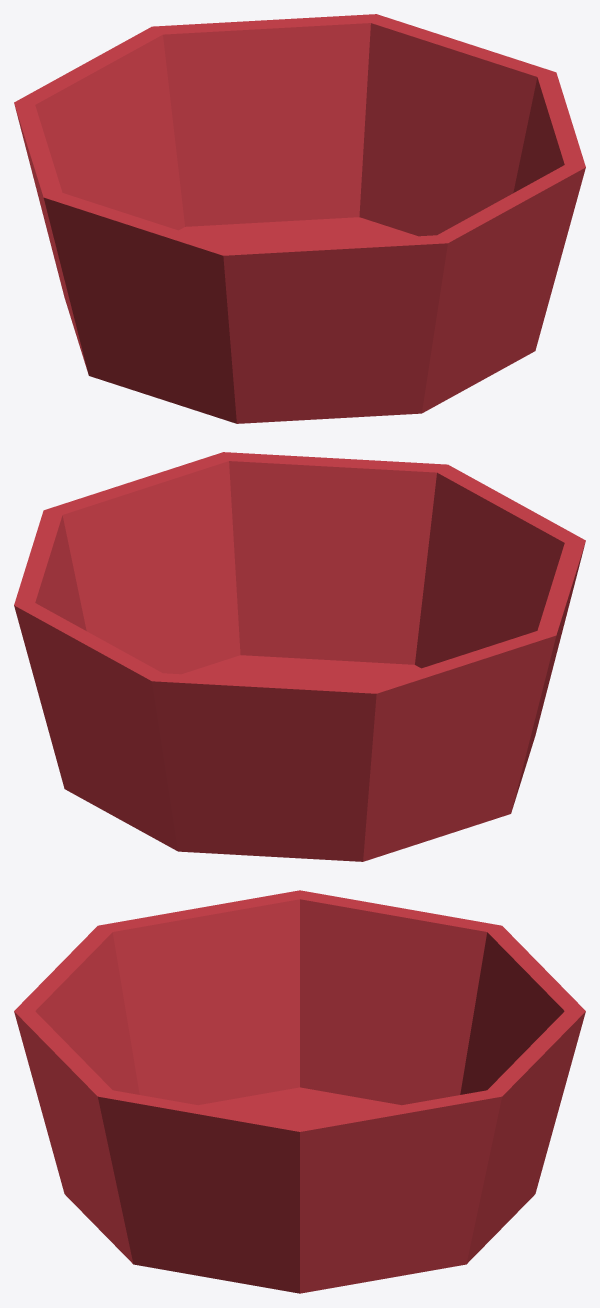
Rendered from ENVI_LV2-3_Ember 1.fbx.
3 renders of one model, top to bottom at view 1: azimuth 30°, elevation 25°; view 2: azimuth 150°, elevation 25°; view 3: azimuth 270°, elevation 25°, orthographic. The views are drawn at different scales.
Parts seen in each view (by area): view 1: Ember; view 2: Ember; view 3: Ember.
Part boxes in pixels (x1,y1,x2,y2): Ember: [14, 14, 585, 423]; Ember: [14, 452, 585, 861]; Ember: [14, 890, 585, 1293].
Bounding box in the file's own units: 75.42 × 26.63 × 75.42.
